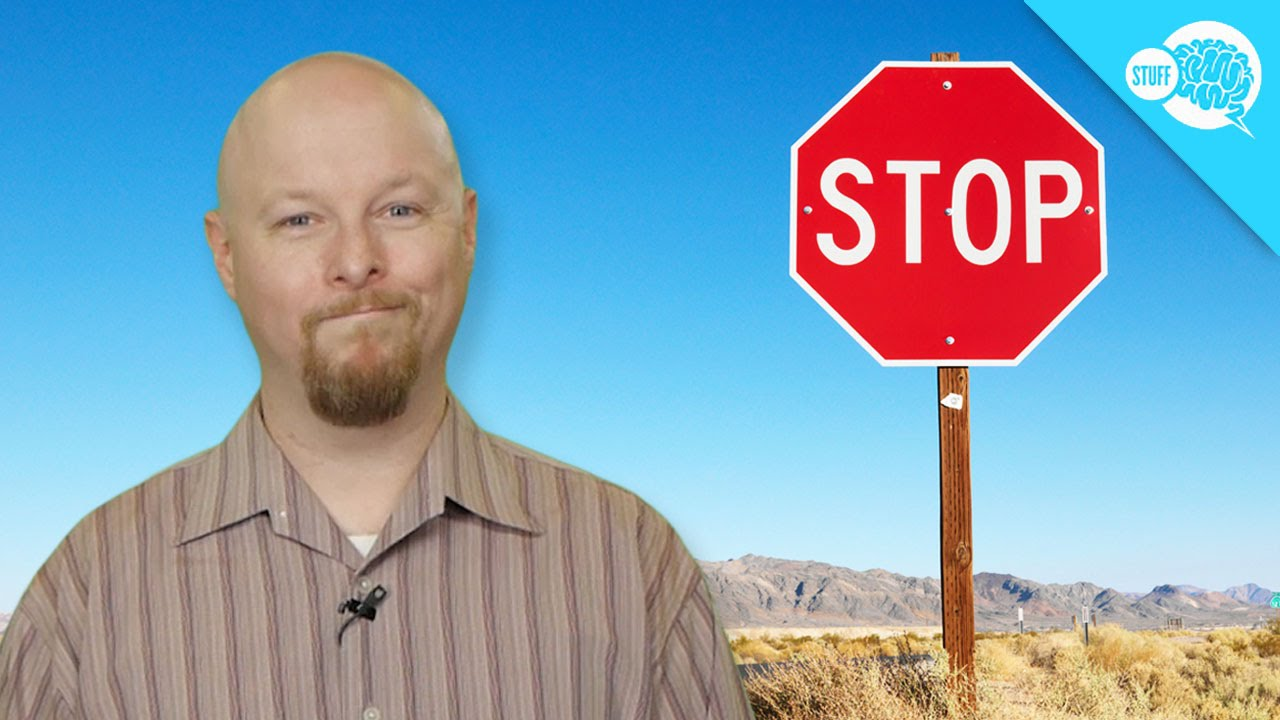stop: (784, 64, 1106, 368), (782, 63, 1030, 364), (878, 61, 1112, 366), (782, 65, 1091, 270), (780, 62, 1114, 216)
